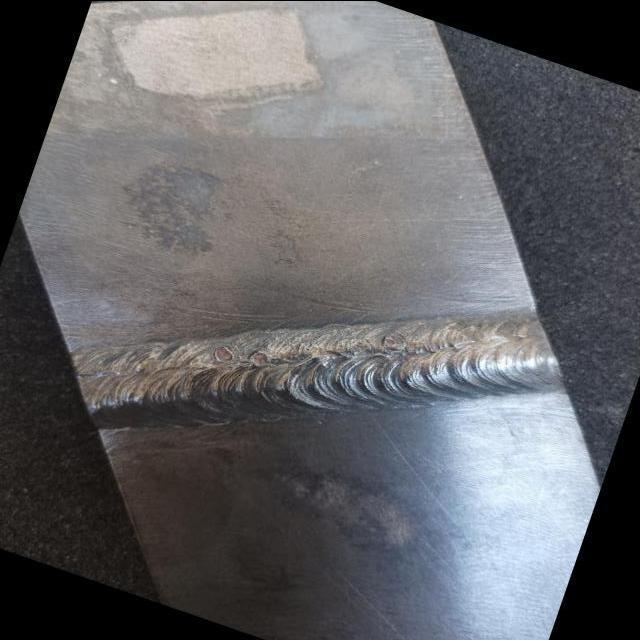defect: (211, 343, 238, 365), (249, 347, 273, 368), (383, 331, 407, 350), (347, 338, 371, 355), (297, 341, 317, 355)
